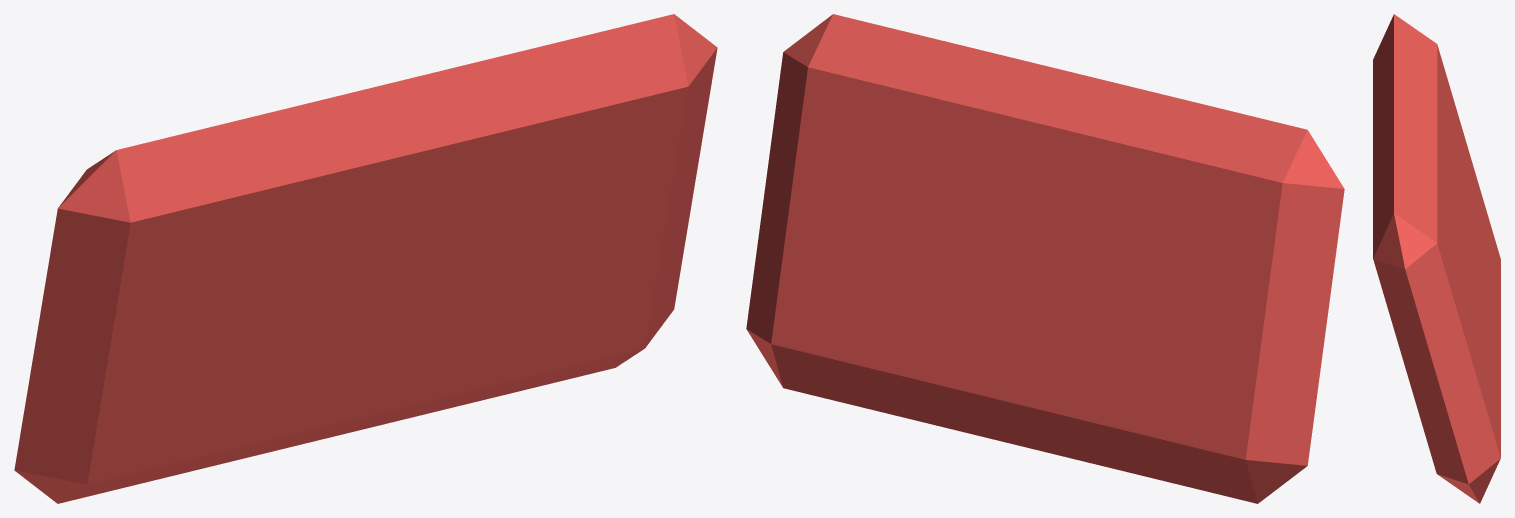
Rendered from pillowLong.obj.
The picture shows the model from 3 angles, left to right: view 1: azimuth 30°, elevation 25°; view 2: azimuth 150°, elevation 25°; view 3: azimuth 270°, elevation 25°; orthographic projection. The views are drawn at different scales.
Parts seen in each view (by area): view 1: pillowLong; view 2: pillowLong; view 3: pillowLong.
Part boxes in pixels (x1,y1,x2,y2): pillowLong: (14,14,717,503); pillowLong: (746,14,1344,503); pillowLong: (1373,14,1500,503).
Bounding box in the file's own units: 0.3866 × 0.2222 × 0.0885.
